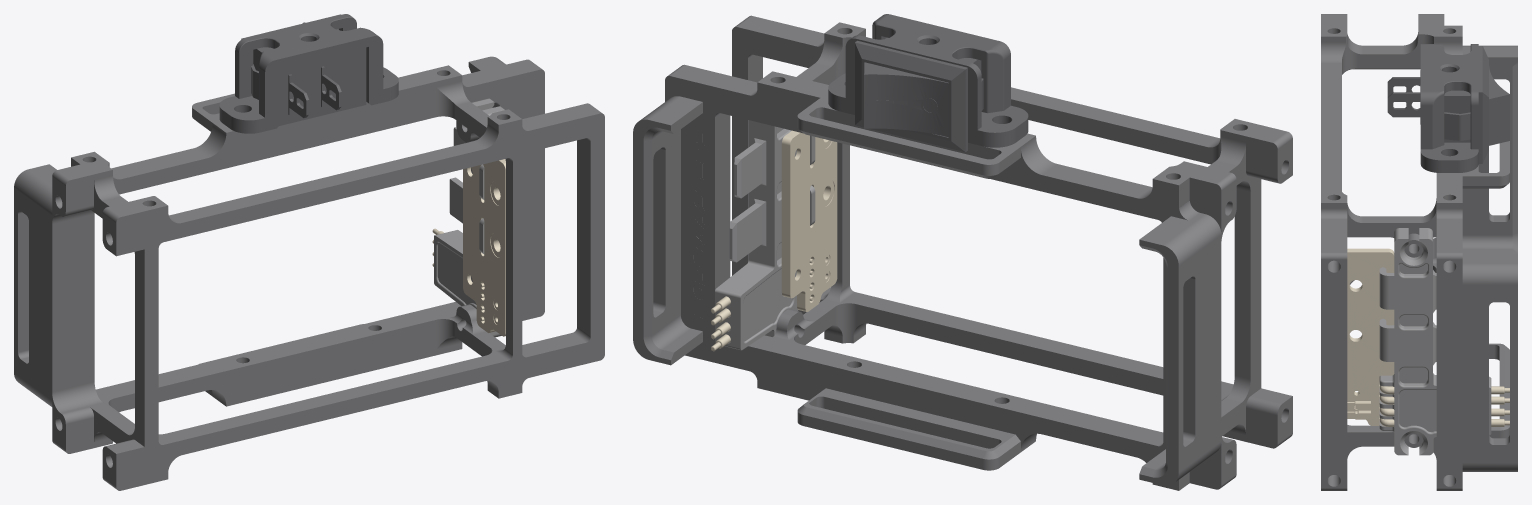
The model's file is web.glb.
3 views of the same model, side by side, from view 1: azimuth 30°, elevation 25°; view 2: azimuth 150°, elevation 25°; view 3: azimuth 270°, elevation 25° (orthographic). The views are drawn at different scales.
Parts seen in each view (by area): view 1: RoboMaster µ紘¼ܣ¨¼牝э£©014, RoboMaster µ紘¼ܣ¨¼牝э£©, RoboMaster µ紘¼ܣ¨¼牝э£©009, RoboMaster µ紘¼ܣ¨¼牝э£©001, RoboMaster µ紘¼ܣ¨¼牝э£©013, RoboMaster µ紘¼ܣ¨¼牝э£©004; view 2: RoboMaster µ紘¼ܣ¨¼牝э£©014, RoboMaster µ紘¼ܣ¨¼牝э£©001, RoboMaster µ紘¼ܣ¨¼牝э£©, RoboMaster µ紘¼ܣ¨¼牝э£©009, RoboMaster µ紘¼ܣ¨¼牝э£©013, RoboMaster µ紘¼ܣ¨¼牝э£©004, RoboMaster µ紘¼ܣ¨¼牝э£©007; view 3: RoboMaster µ紘¼ܣ¨¼牝э£©014, RoboMaster µ紘¼ܣ¨¼牝э£©013, RoboMaster µ紘¼ܣ¨¼牝э£©009, RoboMaster µ紘¼ܣ¨¼牝э£©, RoboMaster µ紘¼ܣ¨¼牝э£©001, RoboMaster µ紘¼ܣ¨¼牝э£©004, RoboMaster µ紘¼ܣ¨¼牝э£©007, RoboMaster µ紘¼ܣ¨¼牝э£©002, RoboMaster µ紘¼ܣ¨¼牝э£©003, RoboMaster µ紘¼ܣ¨¼牝э£©006, RoboMaster µ紘¼ܣ¨¼牝э£©005.
Part boxes in pixels (x1,y1,x2,y2): RoboMaster µ紘¼ܣ¨¼牝э£©014: (14, 56, 604, 490); RoboMaster µ紘¼ܣ¨¼牝э£©: (219, 14, 398, 133); RoboMaster µ紘¼ܣ¨¼牝э£©009: (463, 159, 505, 336); RoboMaster µ紘¼ܣ¨¼牝э£©001: (241, 14, 366, 125); RoboMaster µ紘¼ܣ¨¼牝э£©013: (434, 98, 504, 337); RoboMaster µ紘¼ܣ¨¼牝э£©004: (449, 177, 484, 254); RoboMaster µ紘¼ܣ¨¼牝э£©014: (633, 15, 1292, 490); RoboMaster µ紘¼ܣ¨¼牝э£©001: (855, 37, 983, 151); RoboMaster µ紘¼ܣ¨¼牝э£©: (828, 14, 1028, 147); RoboMaster µ紘¼ܣ¨¼牝э£©009: (781, 130, 837, 311); RoboMaster µ紘¼ܣ¨¼牝э£©013: (715, 120, 798, 350); RoboMaster µ紘¼ܣ¨¼牝э£©004: (729, 185, 815, 262); RoboMaster µ紘¼ܣ¨¼牝э£©007: (734, 135, 815, 198); RoboMaster µ紘¼ܣ¨¼牝э£©014: (1321, 14, 1517, 490); RoboMaster µ紘¼ܣ¨¼牝э£©013: (1379, 228, 1491, 455); RoboMaster µ紘¼ܣ¨¼牝э£©009: (1347, 248, 1394, 425); RoboMaster µ紘¼ܣ¨¼牝э£©: (1420, 44, 1478, 172); RoboMaster µ紘¼ܣ¨¼牝э£©001: (1387, 46, 1509, 163); RoboMaster µ紘¼ܣ¨¼牝э£©004: (1379, 318, 1436, 361); RoboMaster µ紘¼ܣ¨¼牝э£©007: (1379, 267, 1436, 309); RoboMaster µ紘¼ܣ¨¼牝э£©002: (1380, 395, 1509, 404); RoboMaster µ紘¼ܣ¨¼牝э£©003: (1380, 385, 1509, 394); RoboMaster µ紘¼ܣ¨¼牝э£©006: (1380, 407, 1509, 416); RoboMaster µ紘¼ܣ¨¼牝э£©005: (1380, 418, 1509, 426).
Size of the model in its own units: 0.1035 by 0.0693 by 0.0375.
